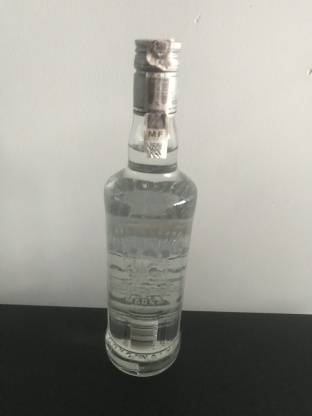nakretka: (131, 34, 183, 116)
